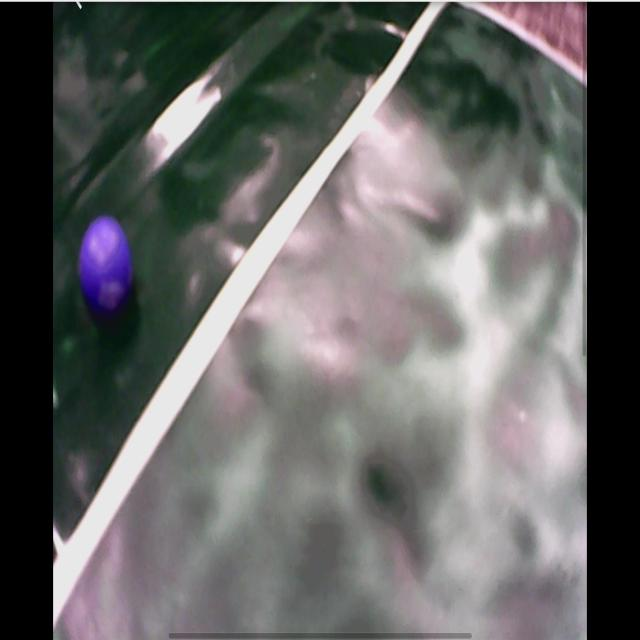ball: (78, 216, 134, 310)
